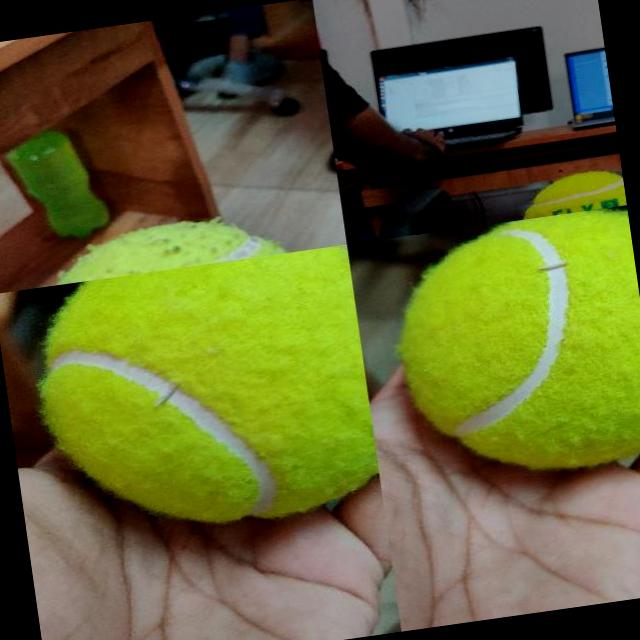Tennis Ball: (26, 245, 382, 547), (386, 205, 640, 488), (516, 168, 626, 219)
